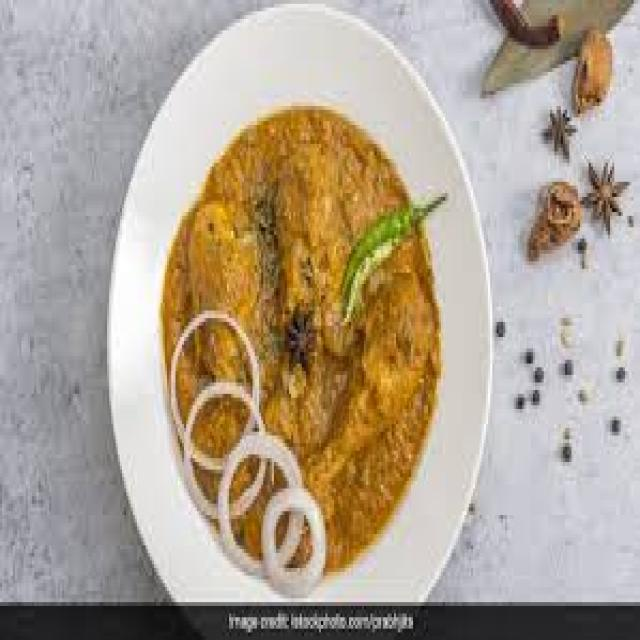Frango: (163, 110, 445, 560)
